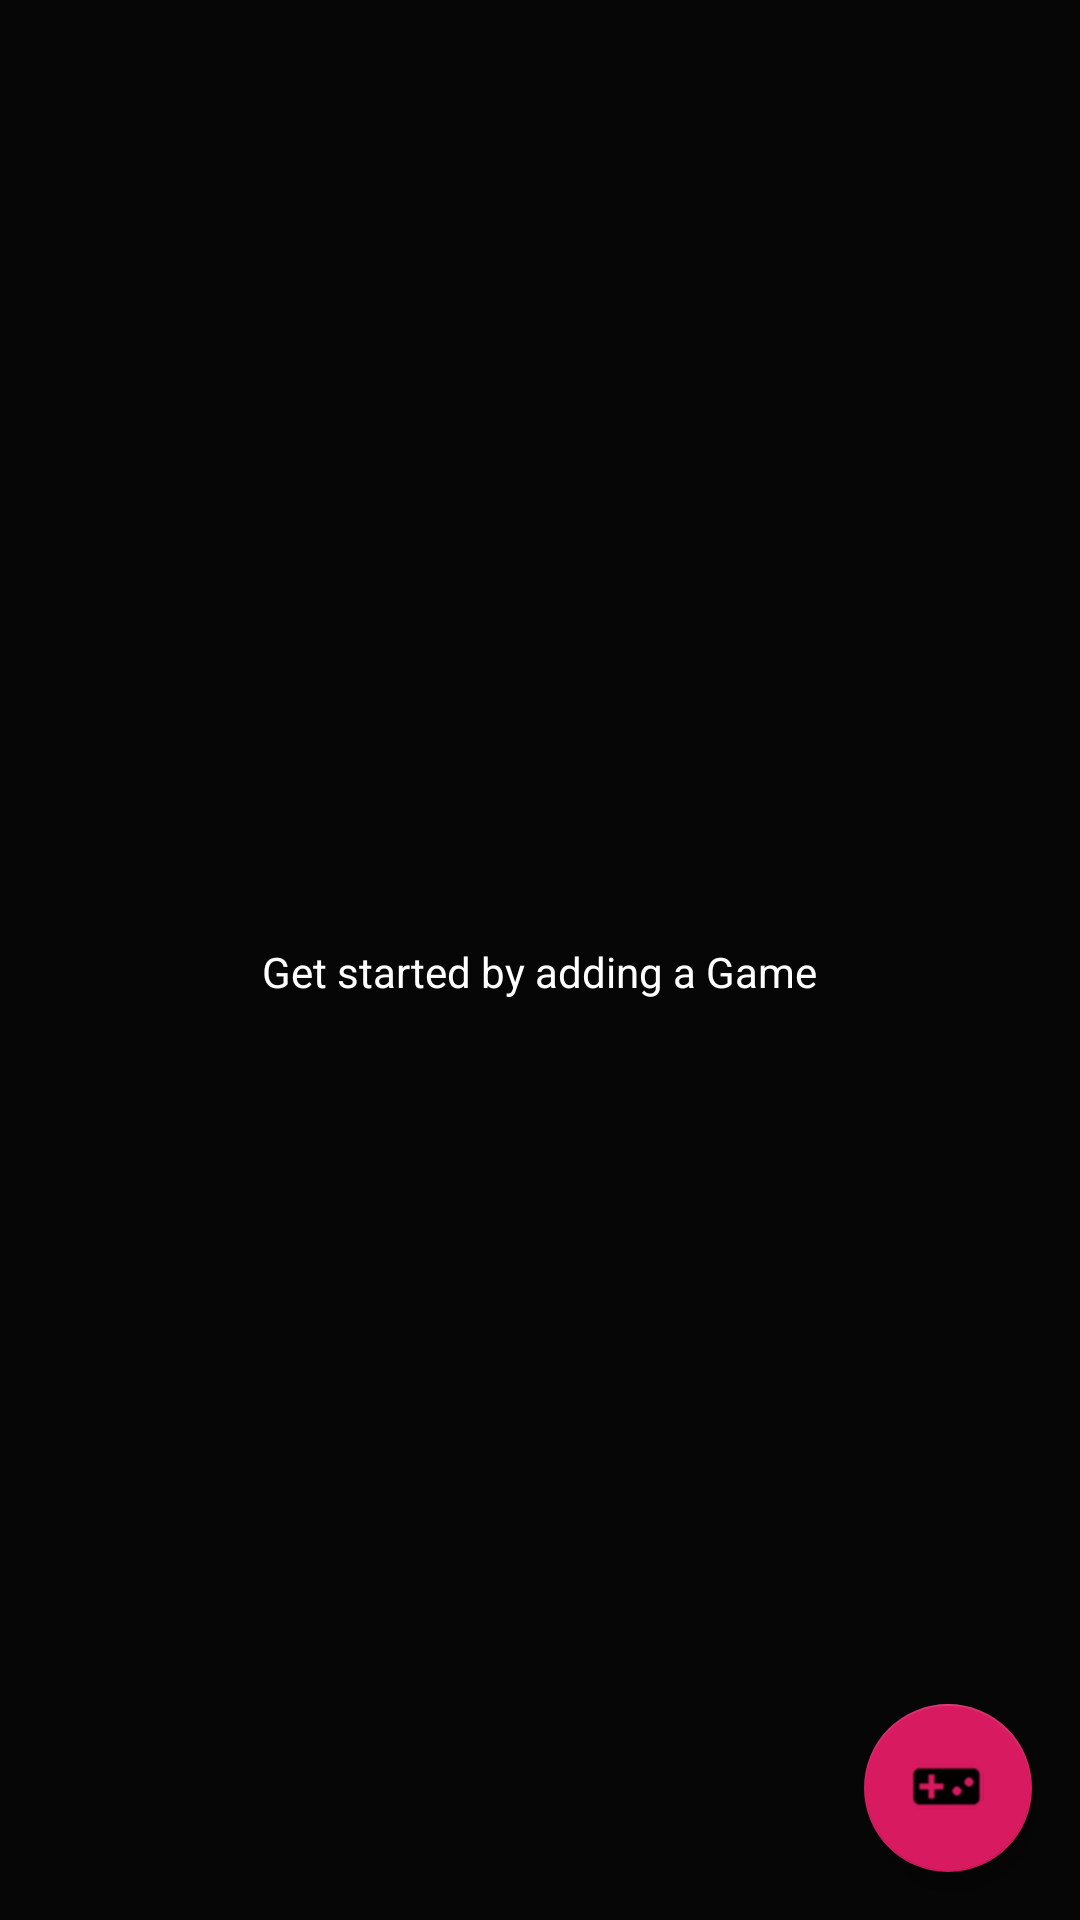

Icons on this 1080*1920 Android screen, each with the point to tap as (x,y):
videogame: (948,1788)
